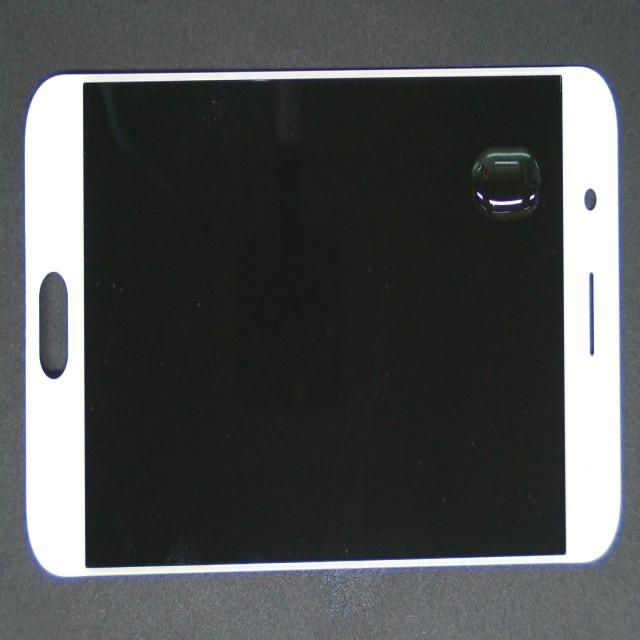oil: (235, 61, 640, 267)
